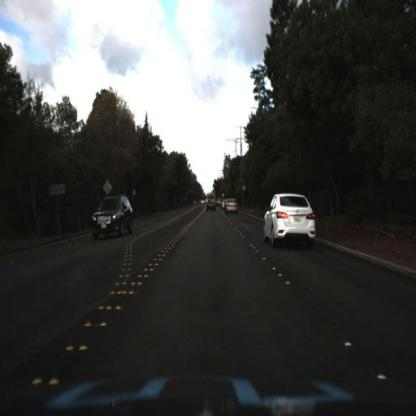car: (263, 192, 316, 252), (88, 194, 130, 238), (224, 198, 238, 220), (205, 197, 217, 212)
